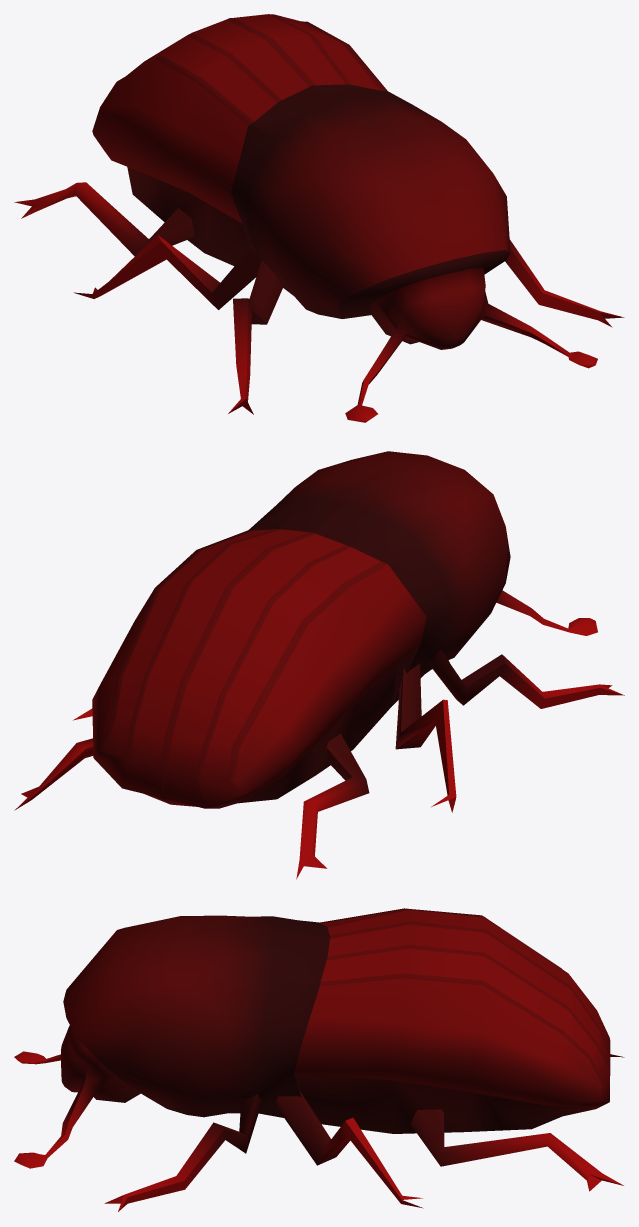
File: Insects_SpruceBeetle.fbx
The picture shows the model from 3 angles, top to bottom: view 1: azimuth 30°, elevation 25°; view 2: azimuth 150°, elevation 25°; view 3: azimuth 270°, elevation 25°; orthographic projection. The views are drawn at different scales.
Parts seen in each view (by area): view 1: base; view 2: base; view 3: base.
Boxes of the visible parts, x1,y1,x2,y2 form: base: (14, 14, 624, 422); base: (14, 451, 624, 879); base: (14, 908, 624, 1211).
Size of the model in its own units: 61.93 by 31.74 by 88.03.
